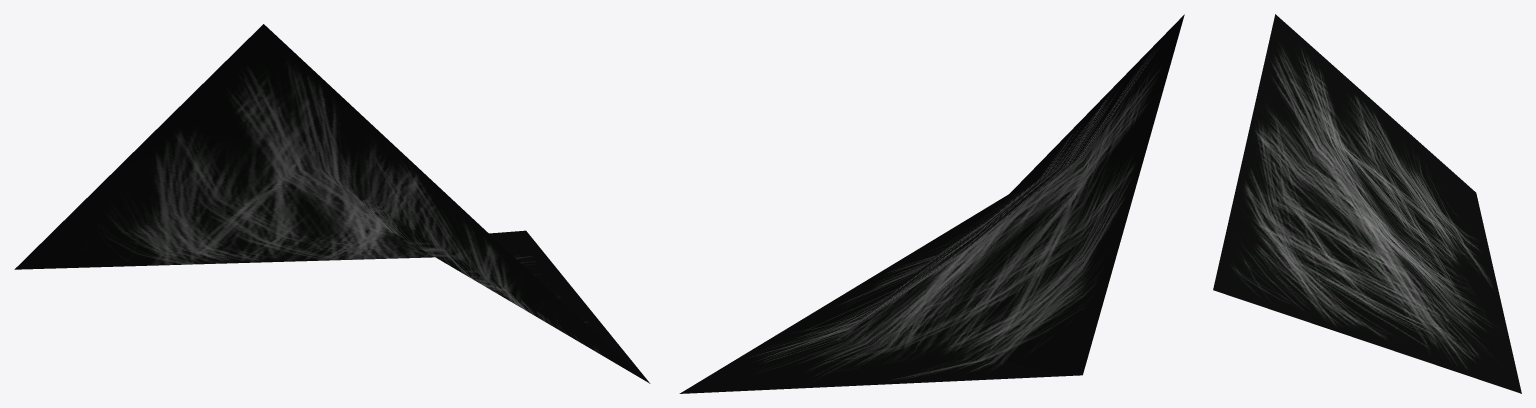
The model's file is EKH_GROTTO_PS_GR_CORNER_WEB__NC09.fbx.
The picture shows the model from 3 angles, left to right: view 1: azimuth 30°, elevation 25°; view 2: azimuth 150°, elevation 25°; view 3: azimuth 270°, elevation 25°; orthographic projection. The views are drawn at different scales.
Visible parts, largest first — view 1: EKH_GROTTO_PS_GR_CORNER_WEB__NC09; view 2: EKH_GROTTO_PS_GR_CORNER_WEB__NC09; view 3: EKH_GROTTO_PS_GR_CORNER_WEB__NC09.
Part boxes in pixels (x1,y1,x2,y2): EKH_GROTTO_PS_GR_CORNER_WEB__NC09: (14,24,650,383); EKH_GROTTO_PS_GR_CORNER_WEB__NC09: (679,14,1184,393); EKH_GROTTO_PS_GR_CORNER_WEB__NC09: (1213,14,1521,393).
Size of the model in its own units: 21621 by 18954 by 20750.
Materials: 1 (1 with a texture image).
